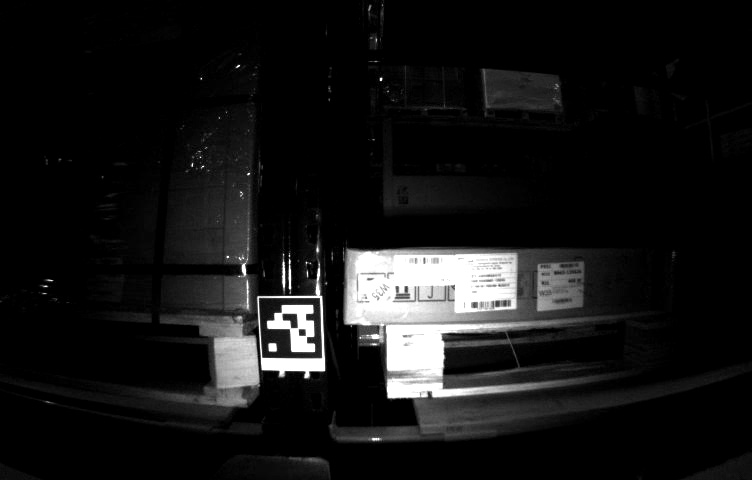True Barcode: (535, 264, 581, 306)
